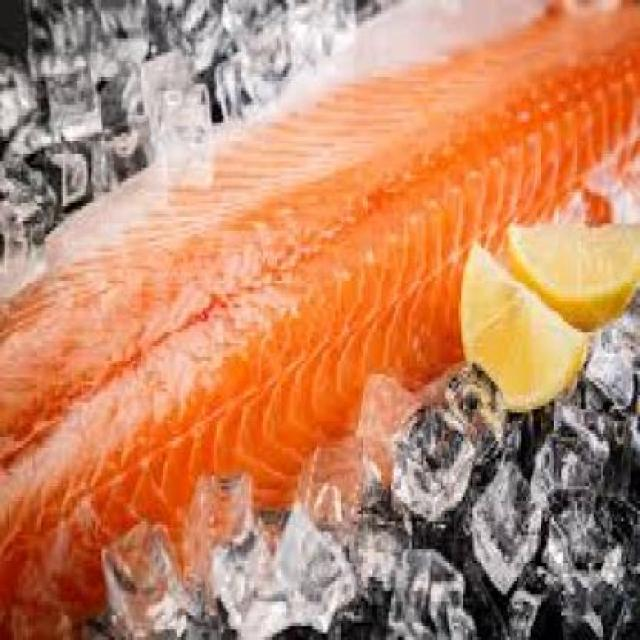salmon: (4, 3, 640, 584)
